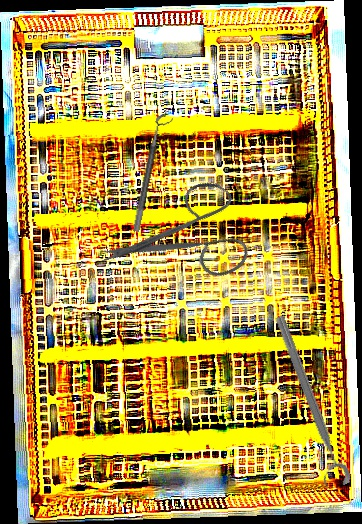Fixation Ring: (261, 313, 353, 492), (132, 113, 174, 234)
Iris Scissors: (94, 151, 273, 332)
